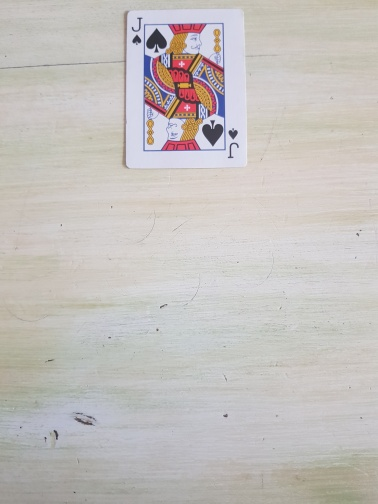jack: (123, 8, 248, 170)
